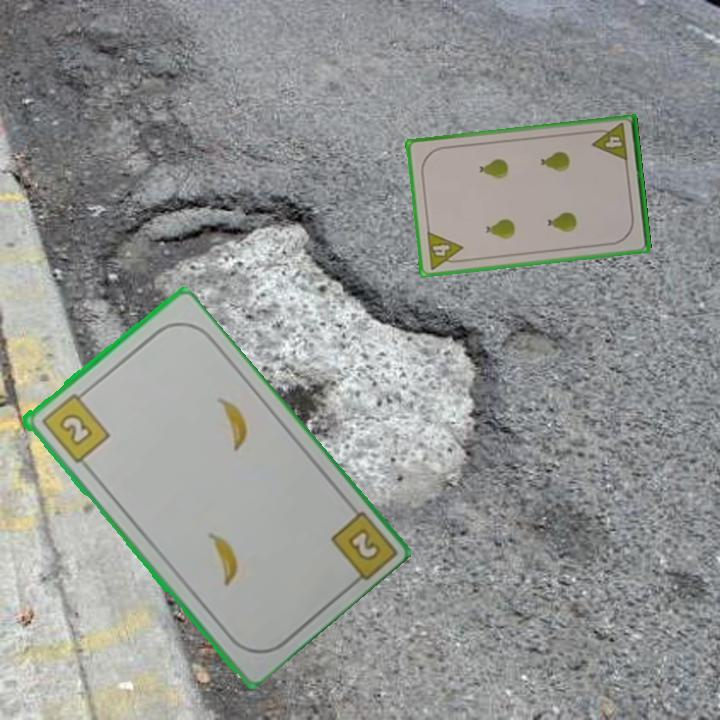2b: (37, 386, 112, 466), (343, 524, 383, 564)
4p: (423, 228, 467, 272), (588, 120, 631, 164)
